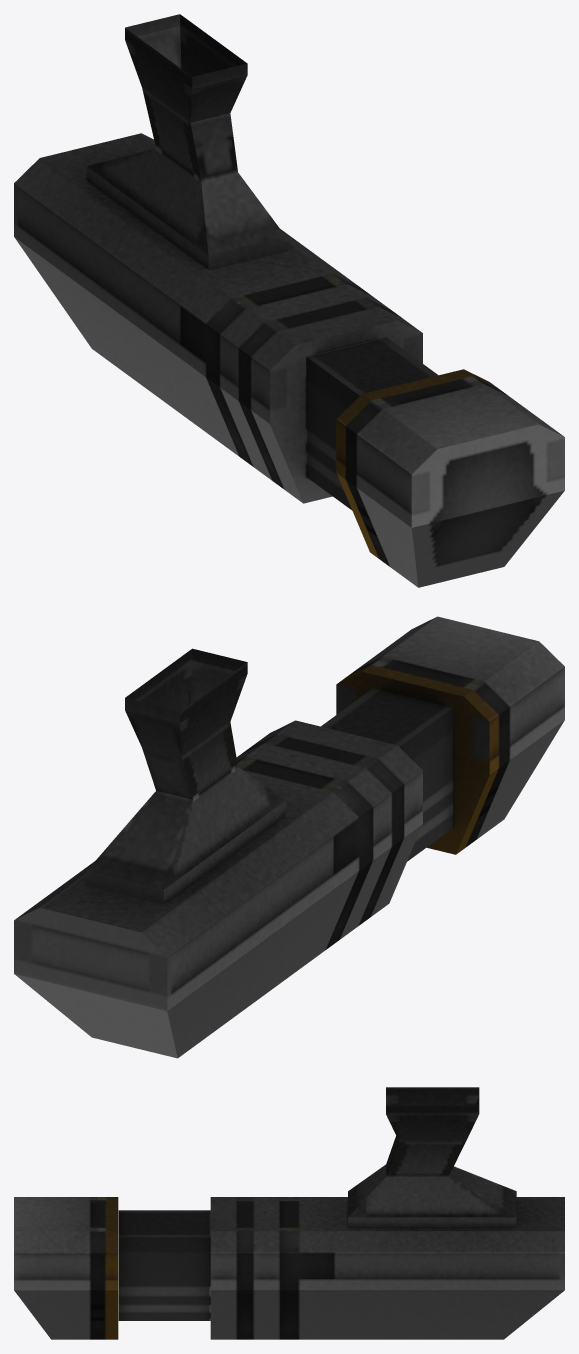
File: CannonLow_FBX.fbx
3 views of the same model, one above another, from view 1: azimuth 30°, elevation 25°; view 2: azimuth 150°, elevation 25°; view 3: azimuth 270°, elevation 25° (orthographic). The views are drawn at different scales.
Visible parts, largest first — view 1: CannonLow; view 2: CannonLow; view 3: CannonLow.
Boxes of the visible parts, x1=… form: CannonLow: x1=14, y1=14, x2=564, y2=587; CannonLow: x1=14, y1=616, x2=564, y2=1058; CannonLow: x1=14, y1=1087, x2=564, y2=1339.
Size of the model in its own units: 0.9171 by 1.89 by 4.13.
